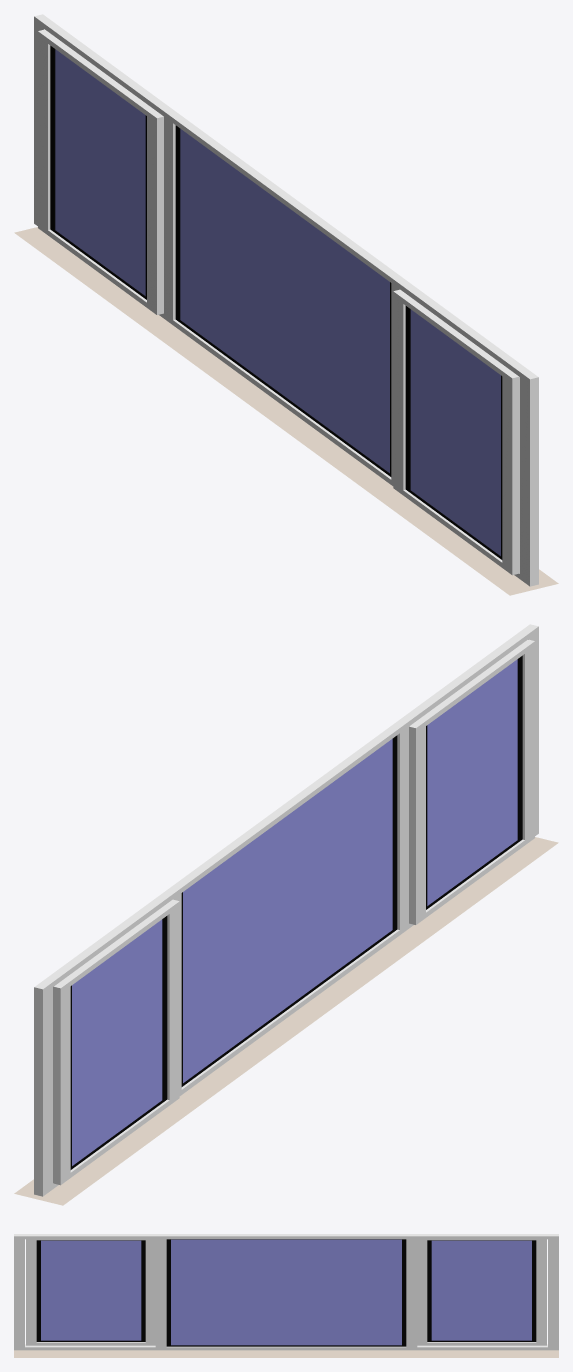
The model's file is PaneWindow.fbx.
3 renders of one model, top to bottom at view 1: azimuth 30°, elevation 25°; view 2: azimuth 150°, elevation 25°; view 3: azimuth 270°, elevation 25°, orthographic. The views are drawn at different scales.
Visible parts, largest first — view 1: PanelWindow; view 2: PanelWindow; view 3: PanelWindow.
Boxes of the visible parts, x1=… form: PanelWindow: x1=14, y1=14, x2=558, y2=595; PanelWindow: x1=14, y1=624, x2=558, y2=1205; PanelWindow: x1=14, y1=1234, x2=558, y2=1357.
Bounding box in the file's own units: 20.47 × 84.22 × 358.
